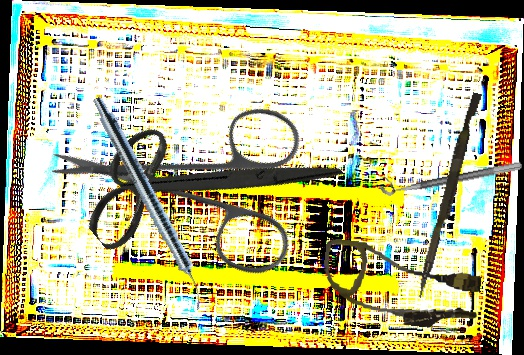Cannula: (317, 237, 485, 334)
Fixation Ring: (376, 149, 523, 198)
Handpiece: (85, 94, 215, 311)
Iris Scissors: (43, 26, 357, 341), (61, 48, 345, 321)
Pusher: (416, 90, 482, 301)
